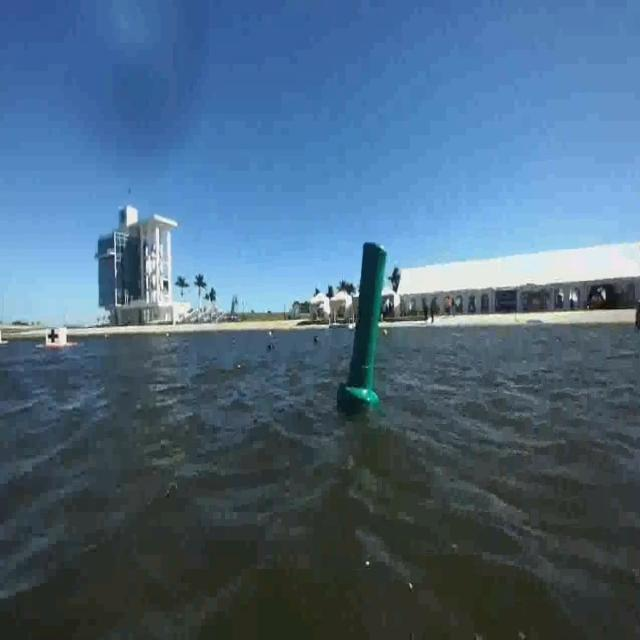green-column-buoy: (340, 242, 388, 412)
